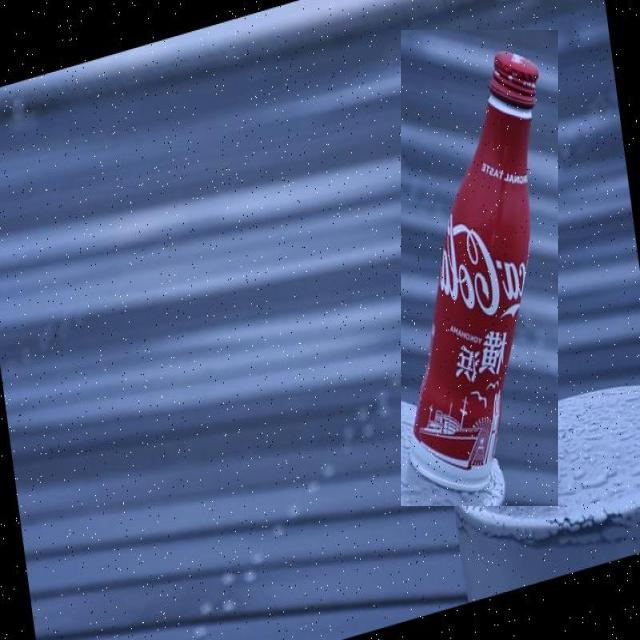coca-cola: (401, 30, 558, 506)
